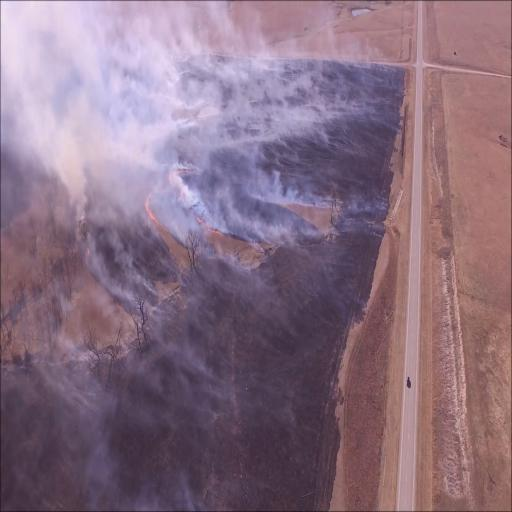smoke: (0, 0, 113, 167), (158, 4, 236, 102), (113, 6, 170, 133), (166, 93, 226, 173), (115, 130, 157, 210), (214, 95, 282, 144), (88, 235, 134, 293), (236, 57, 289, 107), (219, 184, 259, 227), (278, 101, 318, 129), (248, 166, 284, 193), (290, 56, 317, 88), (260, 208, 289, 237), (277, 189, 301, 207)
